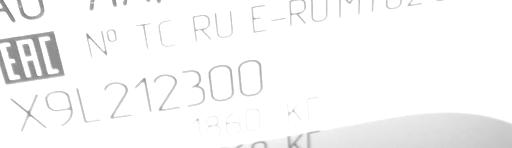letter: (7, 90, 51, 131), (100, 80, 134, 121), (384, 29, 414, 74), (204, 60, 236, 102), (234, 55, 264, 97), (444, 17, 472, 62), (43, 87, 75, 126), (356, 33, 384, 77), (72, 84, 104, 121), (294, 46, 322, 88), (266, 52, 294, 94), (416, 23, 442, 68), (475, 14, 503, 55), (326, 37, 352, 81), (130, 75, 158, 114), (153, 72, 181, 110), (180, 67, 206, 107)
